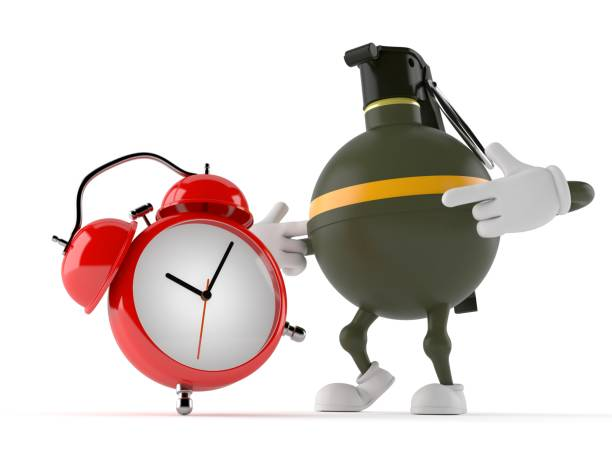e1: (306, 41, 508, 324)
